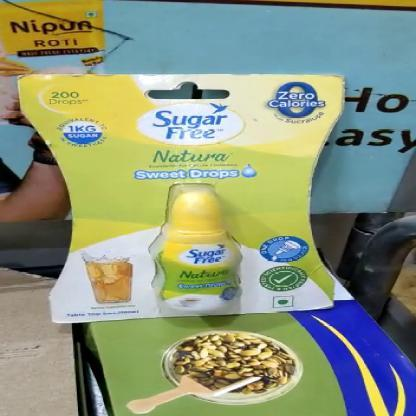SUGAR FREE NATURA SWEET DROPS: (20, 75, 344, 322)
